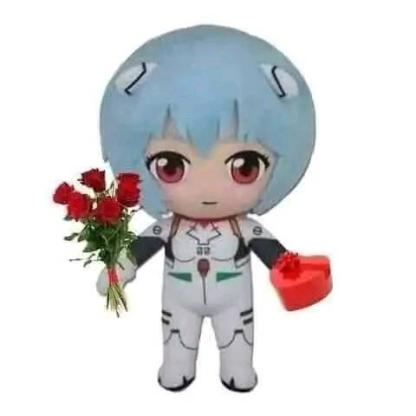rei-plush: (88, 19, 342, 402)
